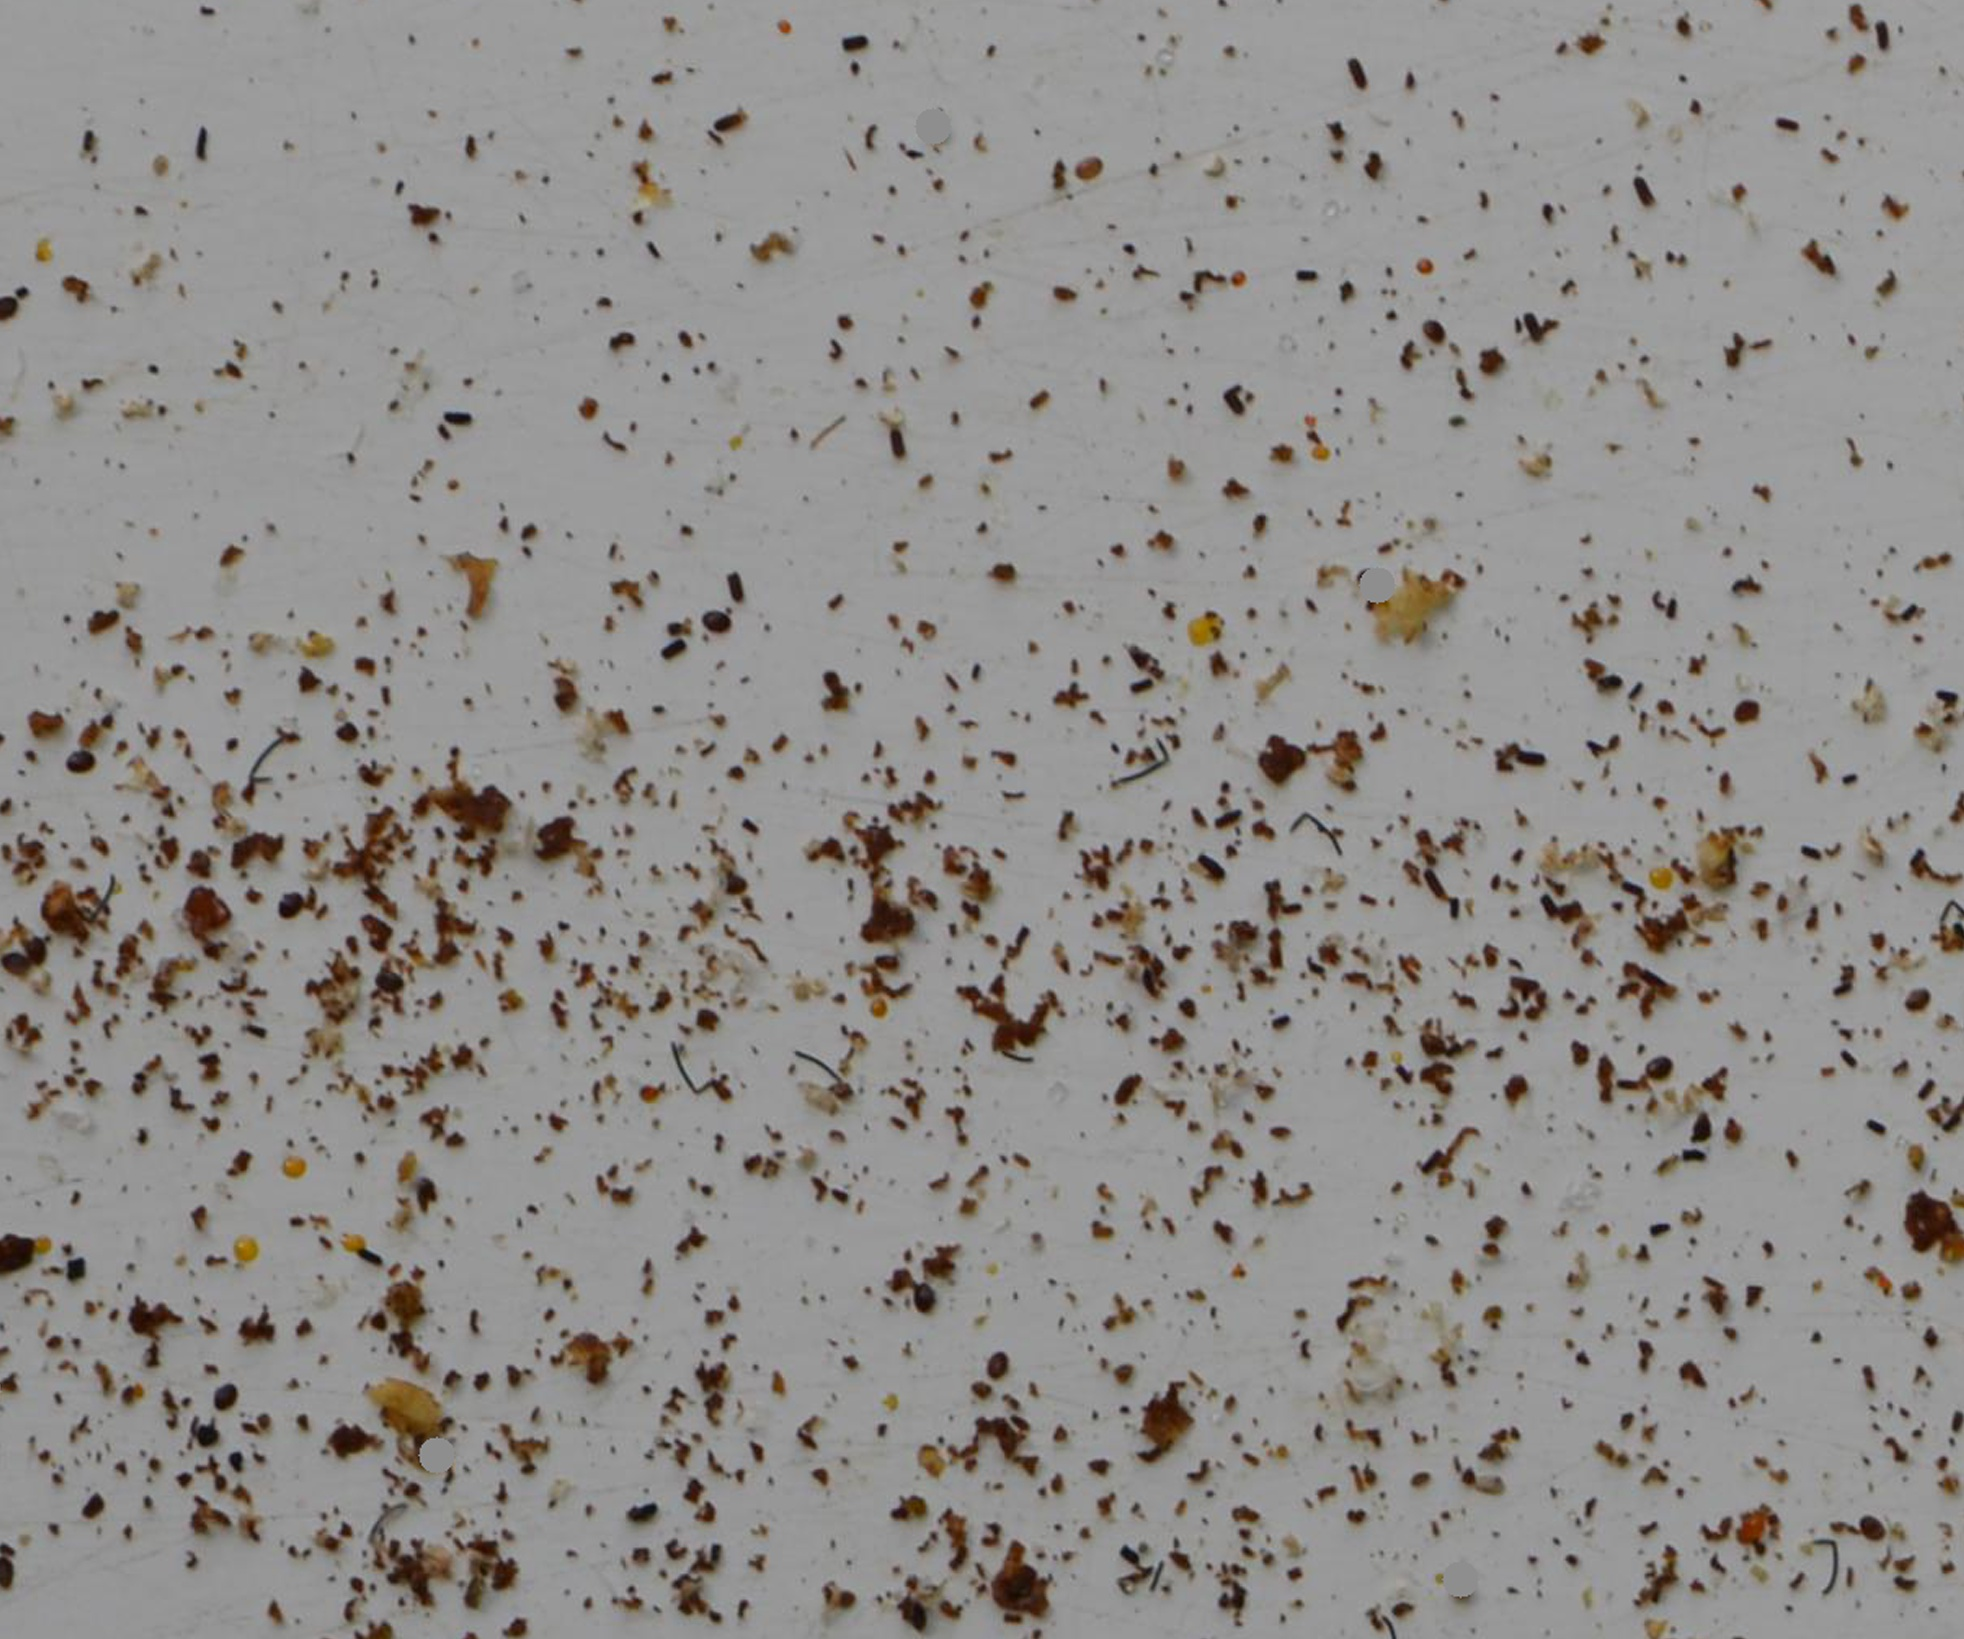Varroa: (1847, 1520, 1884, 1562), (1636, 1055, 1675, 1093), (212, 1368, 250, 1406), (60, 750, 96, 788), (1905, 982, 1941, 1019), (972, 1349, 1008, 1385), (1068, 148, 1104, 184), (1729, 691, 1763, 727), (202, 1389, 237, 1424), (909, 1282, 941, 1316), (276, 882, 308, 917), (705, 607, 737, 639), (1861, 1509, 1895, 1540), (1413, 323, 1444, 354)
